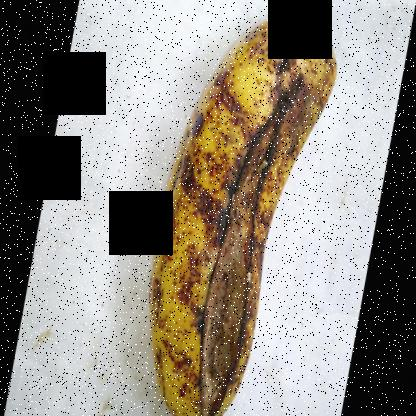rotten: (160, 56, 306, 415)
